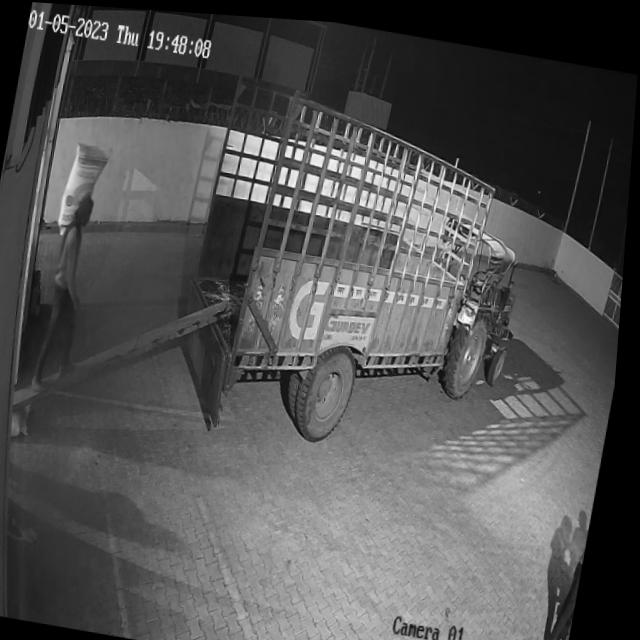sack: (57, 140, 114, 240)
